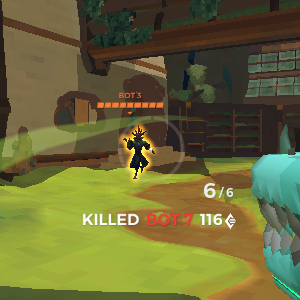model: (125, 123, 156, 176)
